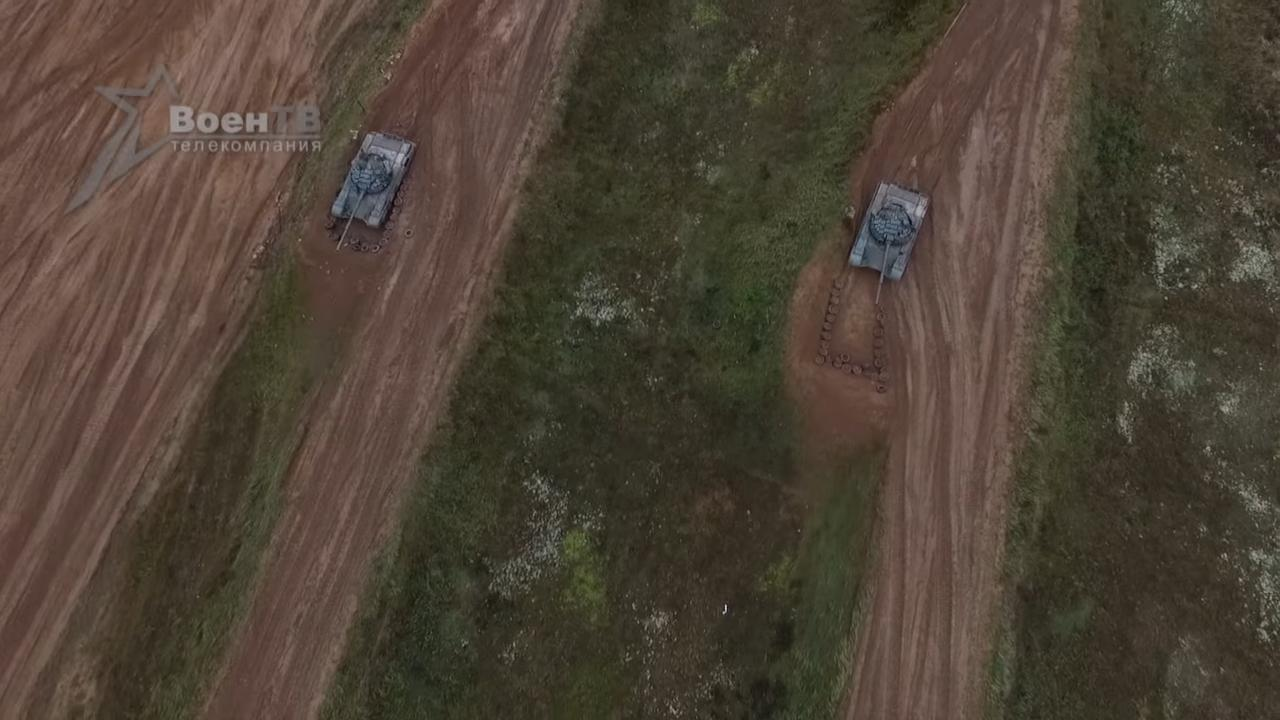tank: (329, 131, 417, 251), (849, 183, 929, 304)
